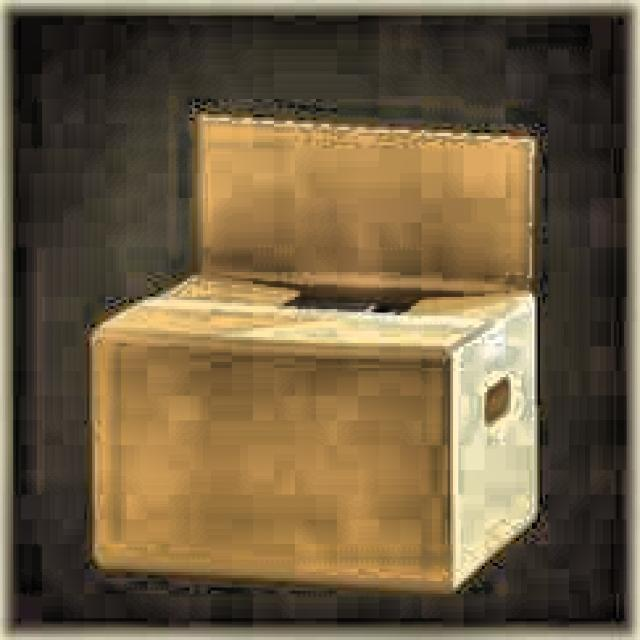cardboard: (87, 108, 540, 594)
